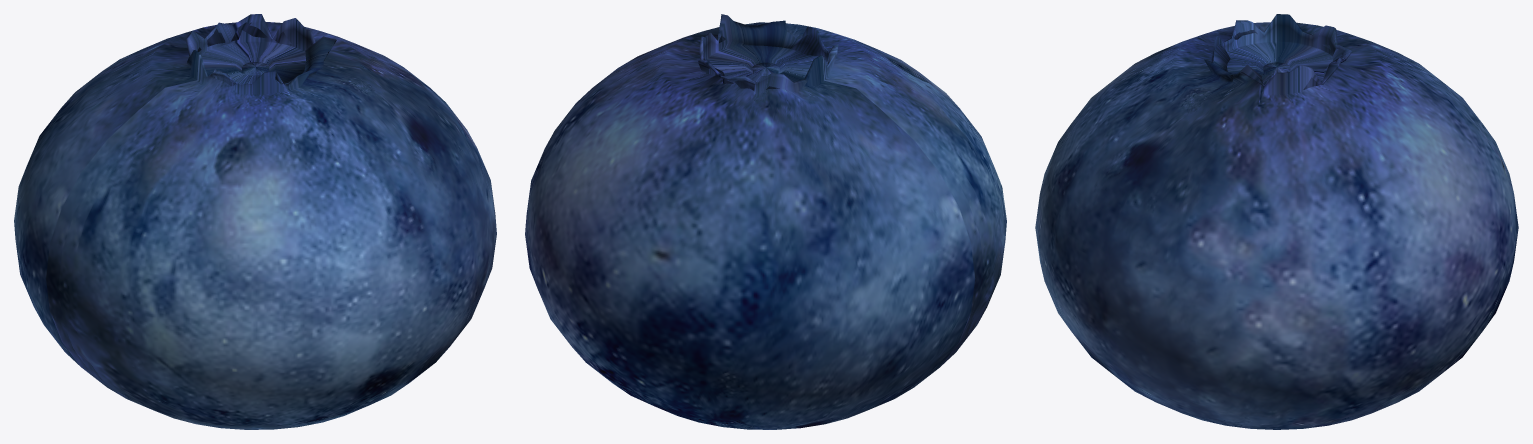
File: blueberry.gltf
3 views of the same model, side by side, from view 1: azimuth 30°, elevation 25°; view 2: azimuth 150°, elevation 25°; view 3: azimuth 270°, elevation 25° (orthographic).
Parts seen in each view (by area): view 1: Sphere; view 2: Sphere; view 3: Sphere.
Part boxes in pixels (x1,y1,x2,y2): Sphere: (14, 14, 496, 429); Sphere: (525, 14, 1006, 429); Sphere: (1035, 14, 1518, 429).
Bounding box in the file's own units: 2 × 1.65 × 2.
Materials: 1 (1 with a texture image).
